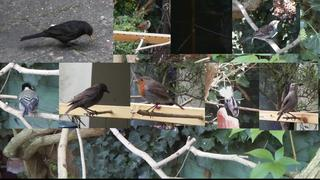blackbird: (20, 20, 93, 49)
dunnock: (133, 20, 151, 33)
great tit: (18, 83, 39, 118)
long tailed tit: (228, 83, 239, 118)
robin: (132, 76, 185, 119)
sparrow: (241, 20, 280, 43)
starling: (64, 83, 110, 117), (277, 83, 298, 121)
